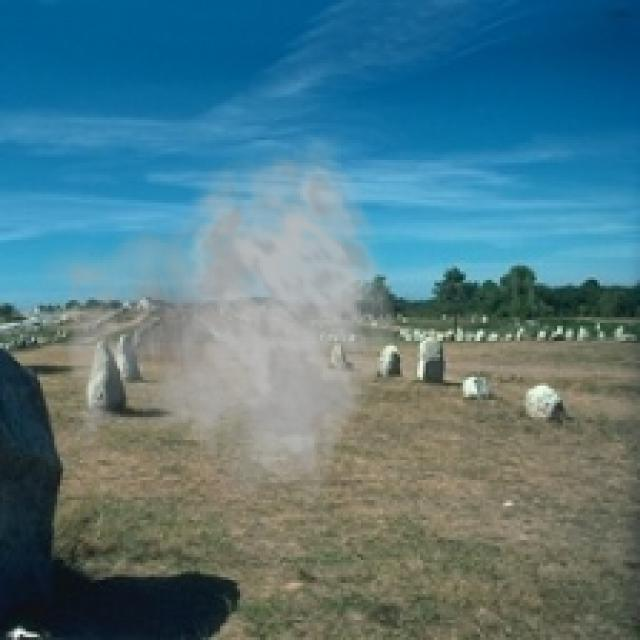Smoke: (32, 137, 397, 517)
